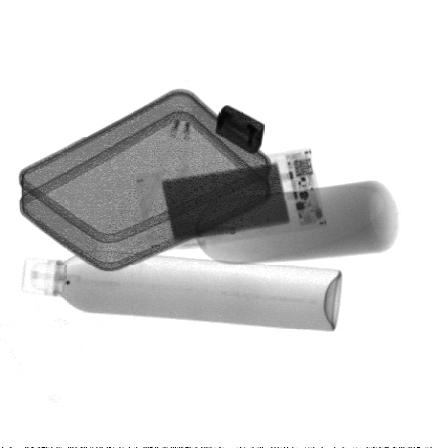Lighter: (214, 105, 265, 155)
Powerbank: (135, 151, 324, 249)
Sprayer: (22, 250, 340, 330)
